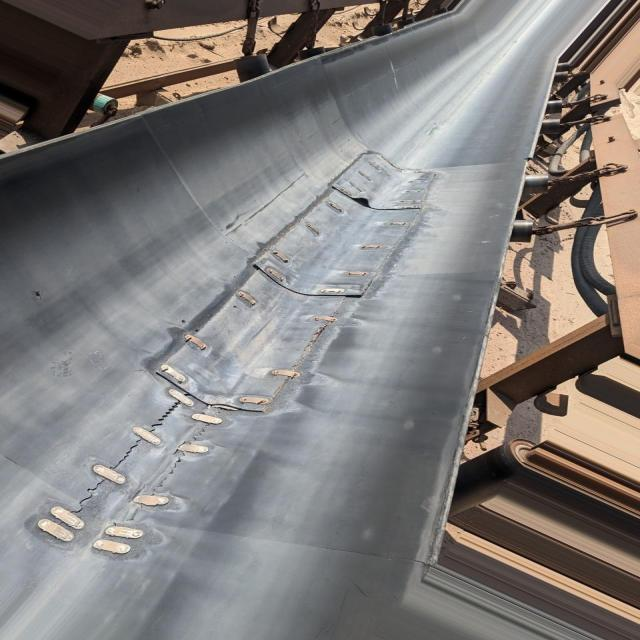patch work: (38, 150, 449, 557)
